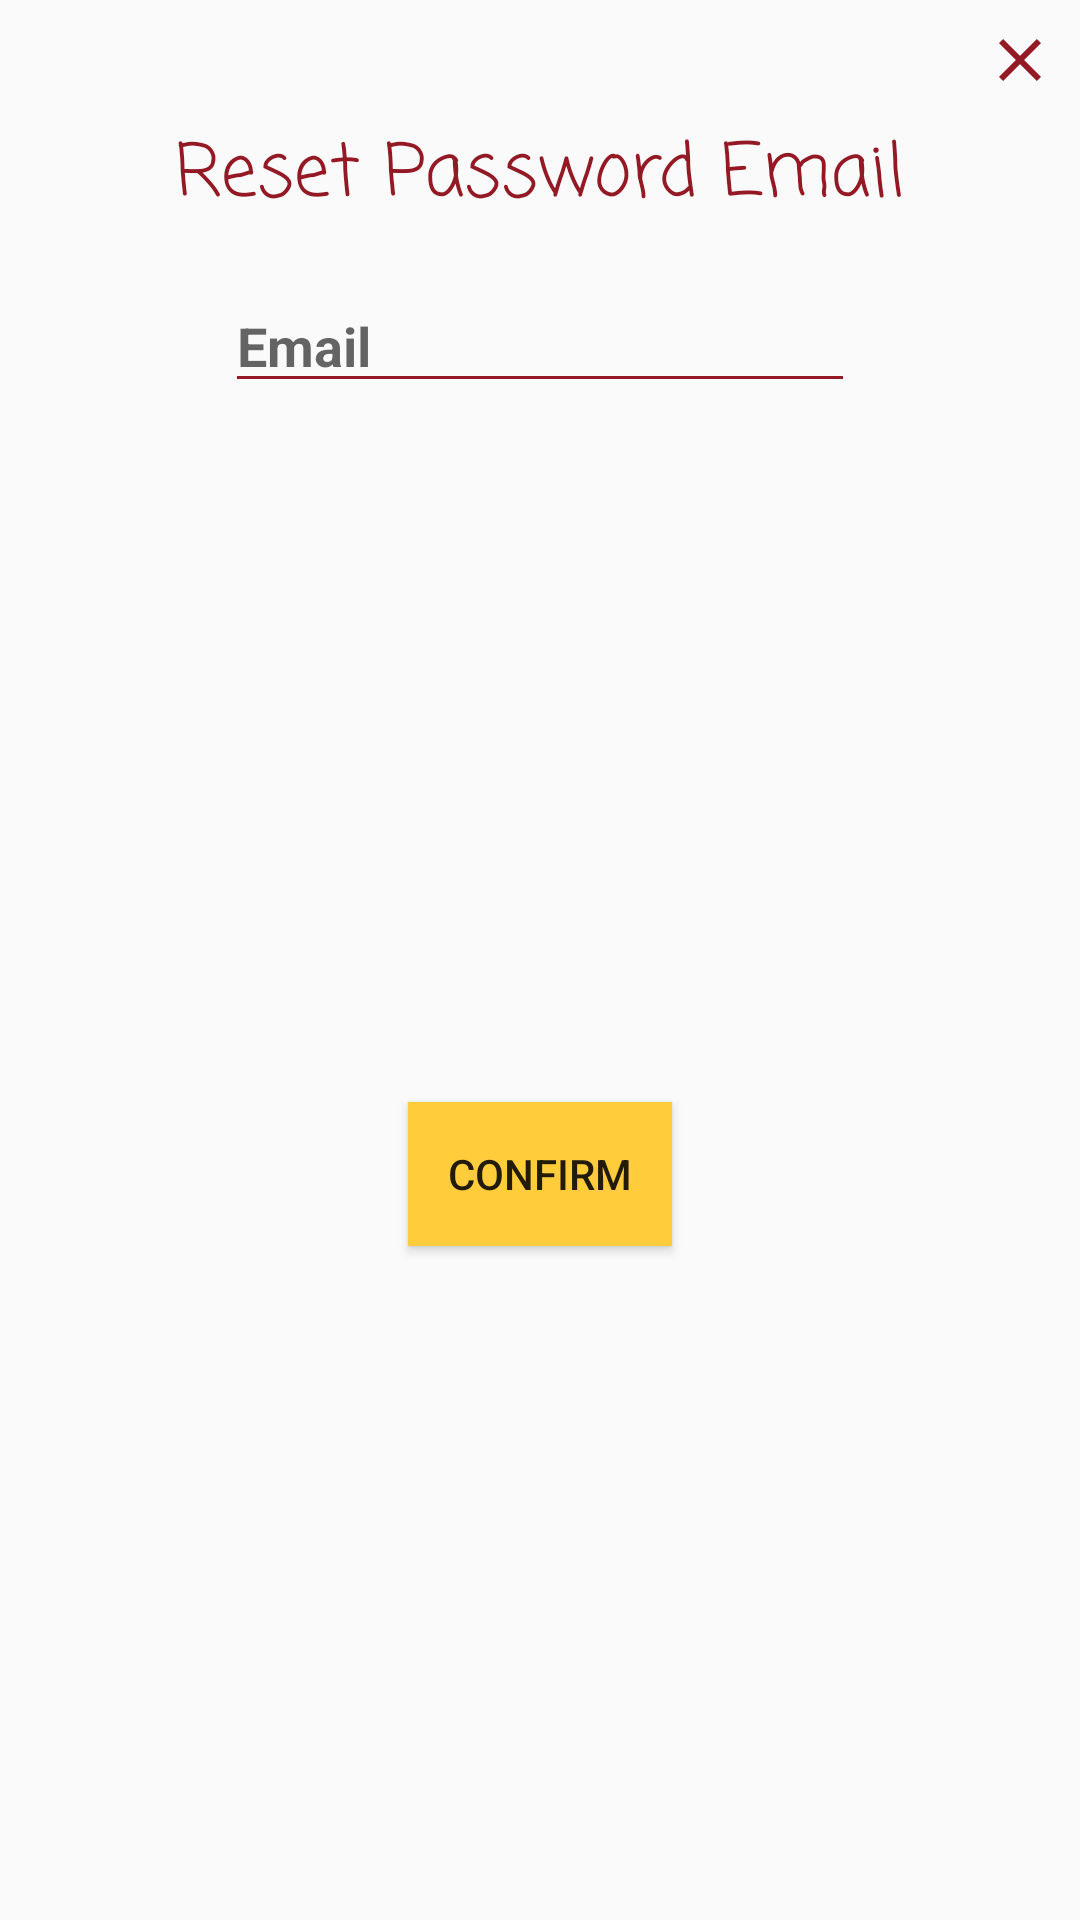

Where icons sit on this 1080 × 1920 app screen, as region(x1, y1, x2, y2):
close: region(999, 39, 1041, 81)
